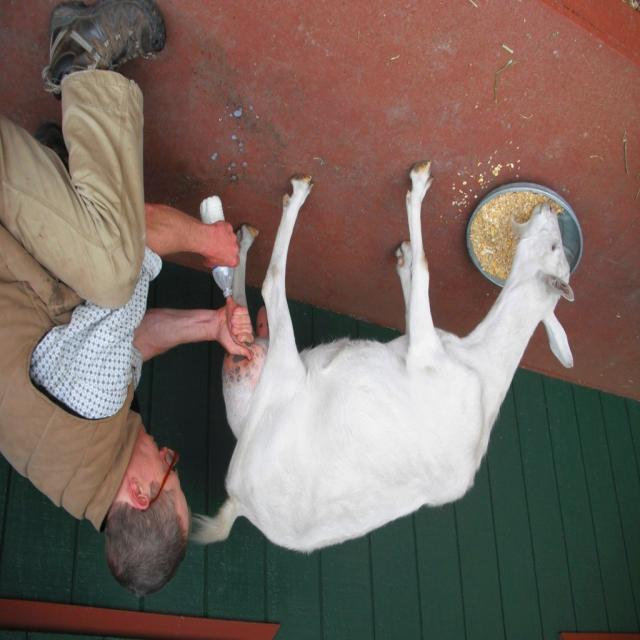Goat: (190, 161, 576, 557)
